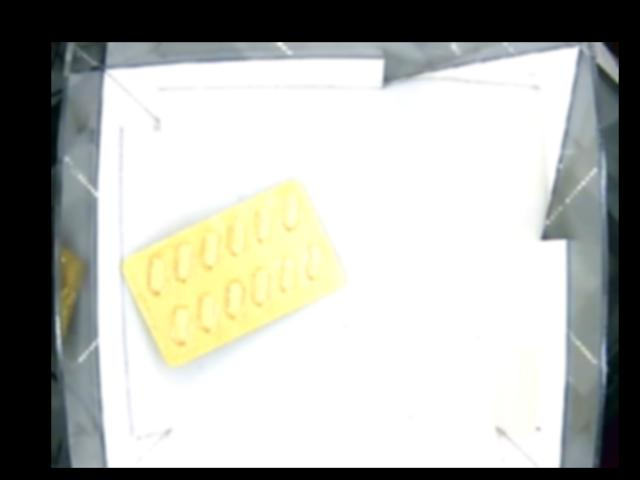Medicine: (118, 182, 342, 365)
